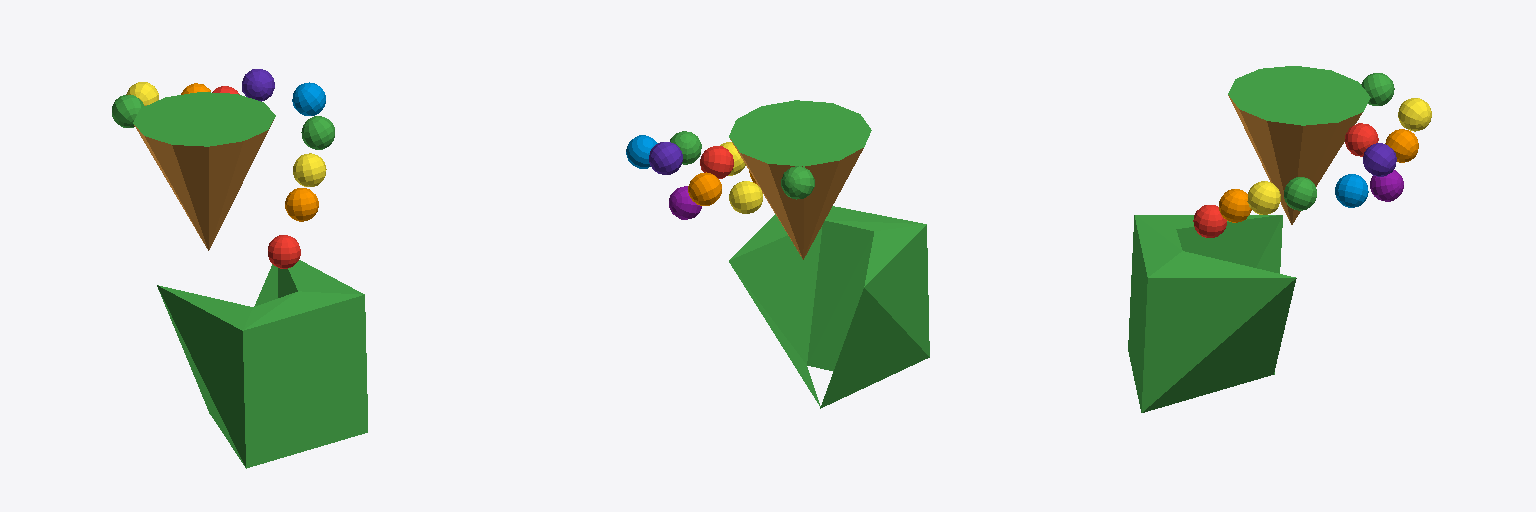
3 views of the same model, side by side, from view 1: azimuth 30°, elevation 25°; view 2: azimuth 150°, elevation 25°; view 3: azimuth 270°, elevation 25° (orthographic).
Parts seen in each view (by area): view 1: group[number redacted], group[number redacted], group[number redacted], group[number redacted], group[number redacted], group[number redacted], group[number redacted], group[number redacted], group[number redacted]; view 2: group[number redacted], group[number redacted], group[number redacted], group[number redacted], group[number redacted], group[number redacted], group[number redacted], group[number redacted], group[number redacted], group[number redacted]; view 3: group[number redacted], group[number redacted], group[number redacted], group[number redacted], group[number redacted], group[number redacted], group[number redacted], group[number redacted], group[number redacted], group[number redacted], group[number redacted], group[number redacted] (+1 smaller).
Boxes of the visible parts, x1=… form: group[number redacted]: x1=157, y1=260, x2=367, y2=468; group[number redacted]: x1=133, y1=92, x2=275, y2=250; group[number redacted]: x1=301, y1=116, x2=334, y2=149; group[number redacted]: x1=285, y1=188, x2=318, y2=221; group[number redacted]: x1=292, y1=82, x2=325, y2=115; group[number redacted]: x1=268, y1=235, x2=300, y2=268; group[number redacted]: x1=293, y1=153, x2=326, y2=186; group[number redacted]: x1=242, y1=69, x2=274, y2=101; group[number redacted]: x1=112, y1=95, x2=144, y2=127; group[number redacted]: x1=729, y1=206, x2=929, y2=408; group[number redacted]: x1=729, y1=100, x2=871, y2=259; group[number redacted]: x1=649, y1=142, x2=682, y2=174; group[number redacted]: x1=729, y1=181, x2=762, y2=213; group[number redacted]: x1=688, y1=172, x2=721, y2=205; group[number redacted]: x1=781, y1=166, x2=814, y2=199; group[number redacted]: x1=700, y1=146, x2=733, y2=178; group[number redacted]: x1=669, y1=186, x2=701, y2=219; group[number redacted]: x1=626, y1=135, x2=657, y2=168; group[number redacted]: x1=670, y1=131, x2=701, y2=164; group[number redacted]: x1=1128, y1=215, x2=1296, y2=412; group[number redacted]: x1=1228, y1=66, x2=1370, y2=224; group[number redacted]: x1=1363, y1=143, x2=1396, y2=176; group[number redacted]: x1=1335, y1=174, x2=1368, y2=207; group[number redacted]: x1=1247, y1=181, x2=1280, y2=214; group[number redacted]: x1=1398, y1=98, x2=1431, y2=131; group[number redacted]: x1=1284, y1=177, x2=1316, y2=210; group[number redacted]: x1=1219, y1=189, x2=1251, y2=222; group[number redacted]: x1=1193, y1=205, x2=1226, y2=237; group[number redacted]: x1=1361, y1=73, x2=1394, y2=105; group[number redacted]: x1=1385, y1=129, x2=1418, y2=162; group[number redacted]: x1=1345, y1=123, x2=1378, y2=156.
Size of the model in its own units: 0.77 by 1.02 by 0.9749.